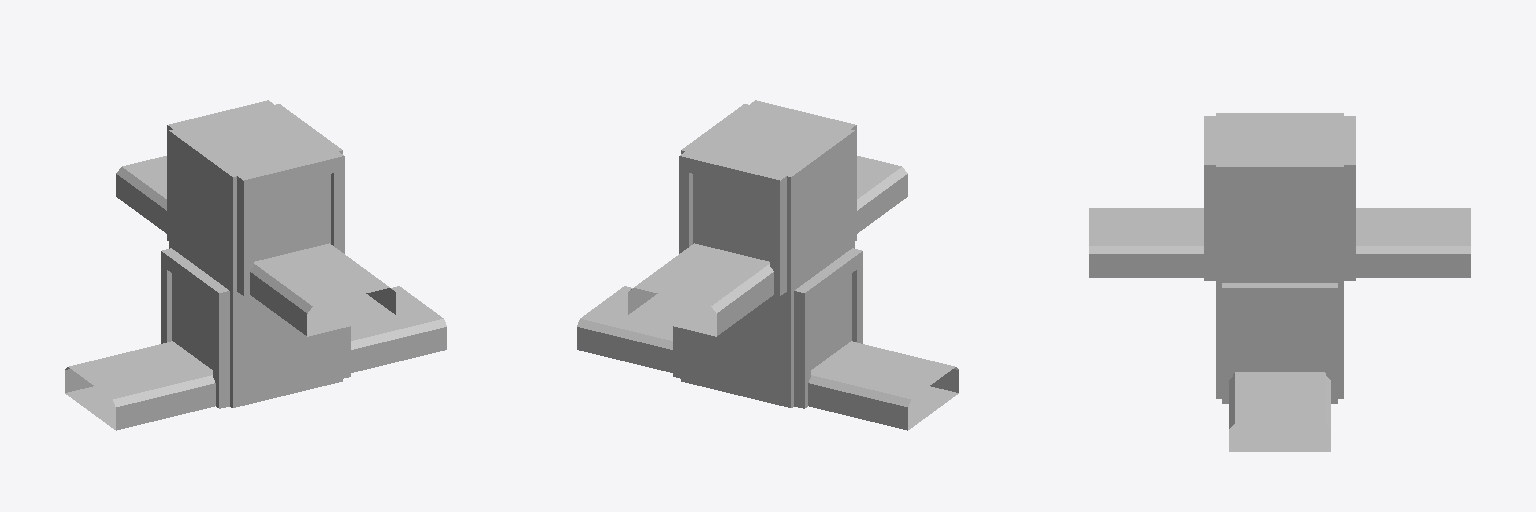
File: VerticalZipper_2_IoPortShape_FlatConveyor.obj
3 renders of one model, left to right at view 1: azimuth 30°, elevation 25°; view 2: azimuth 150°, elevation 25°; view 3: azimuth 270°, elevation 25°, orthographic.
Size of the model in its own units: 6 by 4 by 6.